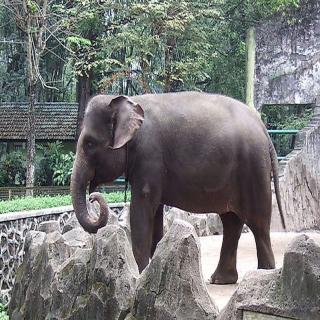Elephant: (69, 88, 289, 292)
